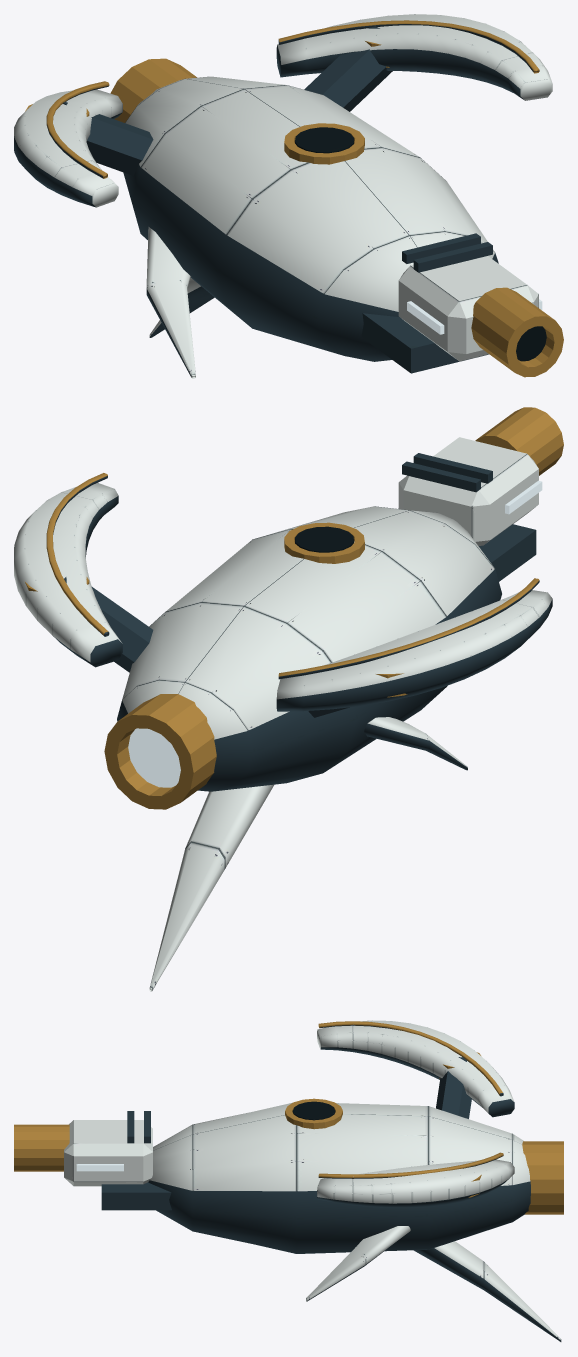
Rendered from pioneer-europa-l03-laser.glb.
3 views of the same model, one above another, from view 1: azimuth 30°, elevation 25°; view 2: azimuth 150°, elevation 25°; view 3: azimuth 270°, elevation 25° (orthographic). The views are drawn at different scales.
Parts seen in each view (by area): view 1: Drone; view 2: Drone; view 3: Drone.
Part boxes in pixels (x1,y1,x2,y2): Drone: [14, 14, 563, 378]; Drone: [14, 407, 563, 991]; Drone: [14, 1020, 563, 1341].
Bounding box in the file's own units: 1.04 × 0.6961 × 1.42.
Materials: 3 (3 with a texture image).
